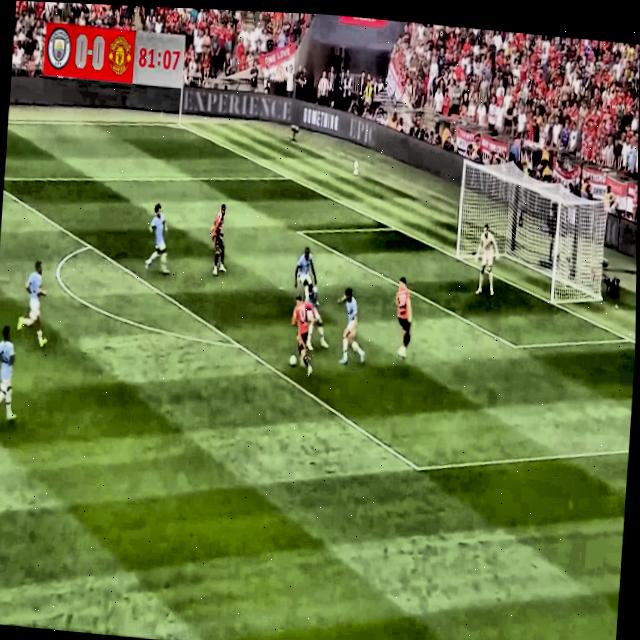ball: (286, 347, 299, 378)
goal_keeper: (470, 221, 502, 301)
players: (13, 252, 59, 352), (285, 286, 320, 382), (140, 195, 177, 282), (335, 280, 370, 368), (387, 274, 418, 366), (203, 191, 234, 281), (0, 322, 22, 428), (301, 280, 333, 350), (293, 244, 321, 309)
